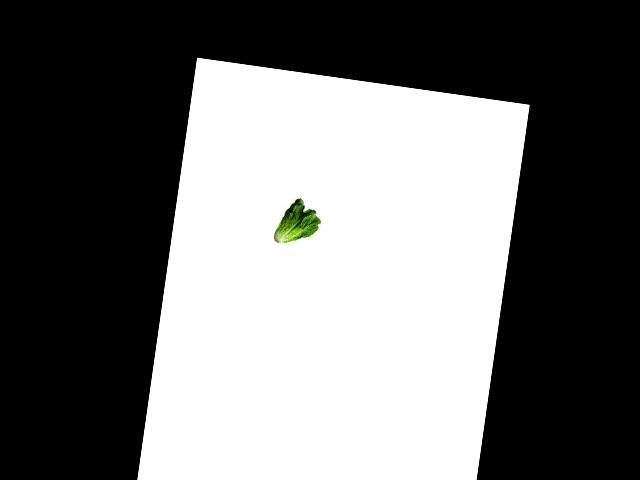lettuce: (272, 195, 329, 250)
